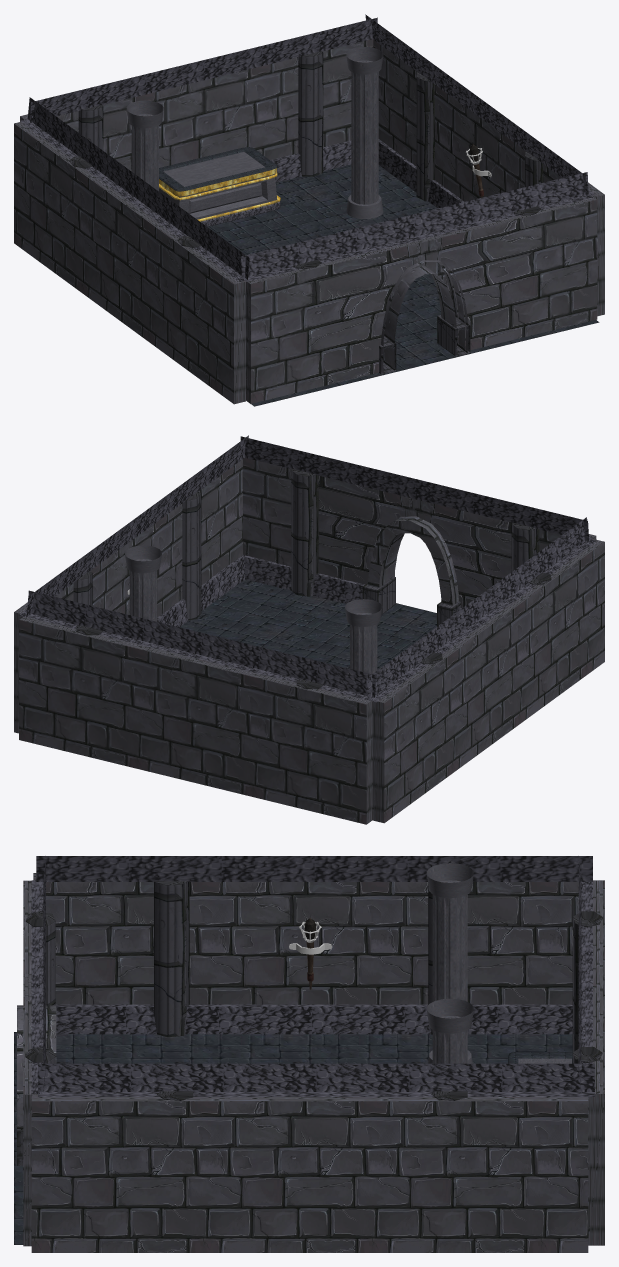
Rendered from room_001.FBX.
The picture shows the model from 3 angles, top to bottom: view 1: azimuth 30°, elevation 25°; view 2: azimuth 150°, elevation 25°; view 3: azimuth 270°, elevation 25°; orthographic projection. The views are drawn at different scales.
Parts seen in each view (by area): view 1: Box16, Box12, Box01, Plane01, Box04, Box18, Box20, Box17, Box19, Cylinder12, Ellipse01, Cylinder02 (+15 smaller); view 2: Box01, Box12, Box16, Plane01, Box04, Box20, Box18, Box17, Box19, Ellipse01, Cylinder21, Cylinder04 (+9 smaller); view 3: Box04, Box12, Box19, Plane01, Box11, Box17, Cylinder16, Box01, Cylinder08, Box16, Box18, Box20 (+7 smaller).
Part boxes in pixels (<box>): Box16: <box>246,196,597,403</box>; Box12: <box>14,122,245,404</box>; Box01: <box>20,39,373,171</box>; Plane01: <box>208,164,599,406</box>; Box04: <box>373,40,604,316</box>; Box18: <box>241,172,592,281</box>; Box20: <box>30,17,377,122</box>; Box17: <box>20,97,249,281</box>; Box19: <box>365,14,595,195</box>; Cylinder12: <box>351,61,378,204</box>; Ellipse01: <box>381,260,468,373</box>; Cylinder02: <box>298,51,323,176</box>; Box01: <box>19,617,372,824</box>; Box12: <box>372,539,604,823</box>; Box16: <box>243,457,596,607</box>; Plane01: <box>180,579,436,669</box>; Box04: <box>14,459,242,733</box>; Box20: <box>27,590,376,700</box>; Box18: <box>240,436,593,541</box>; Box17: <box>366,517,596,702</box>; Box19: <box>18,435,248,617</box>; Ellipse01: <box>368,516,458,605</box>; Cylinder21: <box>291,469,318,596</box>; Cylinder04: <box>182,491,201,620</box>; Box04: <box>31,1094,588,1252</box>; Box12: <box>33,873,578,1004</box>; Box19: <box>38,1063,594,1096</box>; Plane01: <box>14,1032,572,1244</box>; Box11: <box>56,1004,572,1034</box>; Box17: <box>36,856,592,881</box>; Cylinder16: <box>154,881,189,1036</box>; Box01: <box>588,880,604,1245</box>; Cylinder08: <box>432,881,467,1001</box>; Box16: <box>23,880,37,1246</box>; Box18: <box>31,859,45,1093</box>; Box20: <box>578,858,592,1093</box>.
Size of the model in its own units: 1177 by 479 by 1287.
